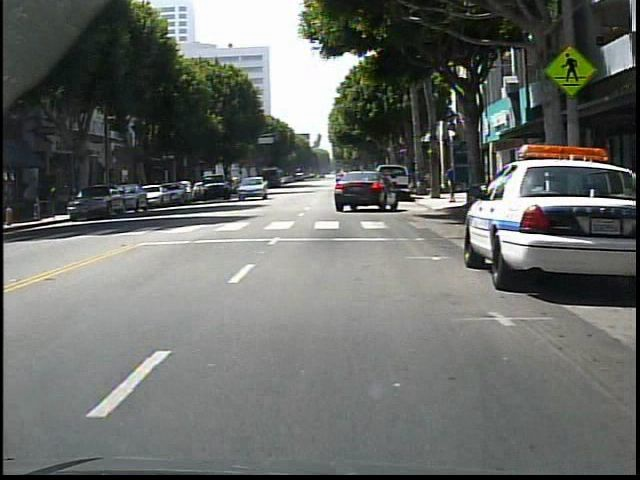person: (440, 160, 462, 209)
